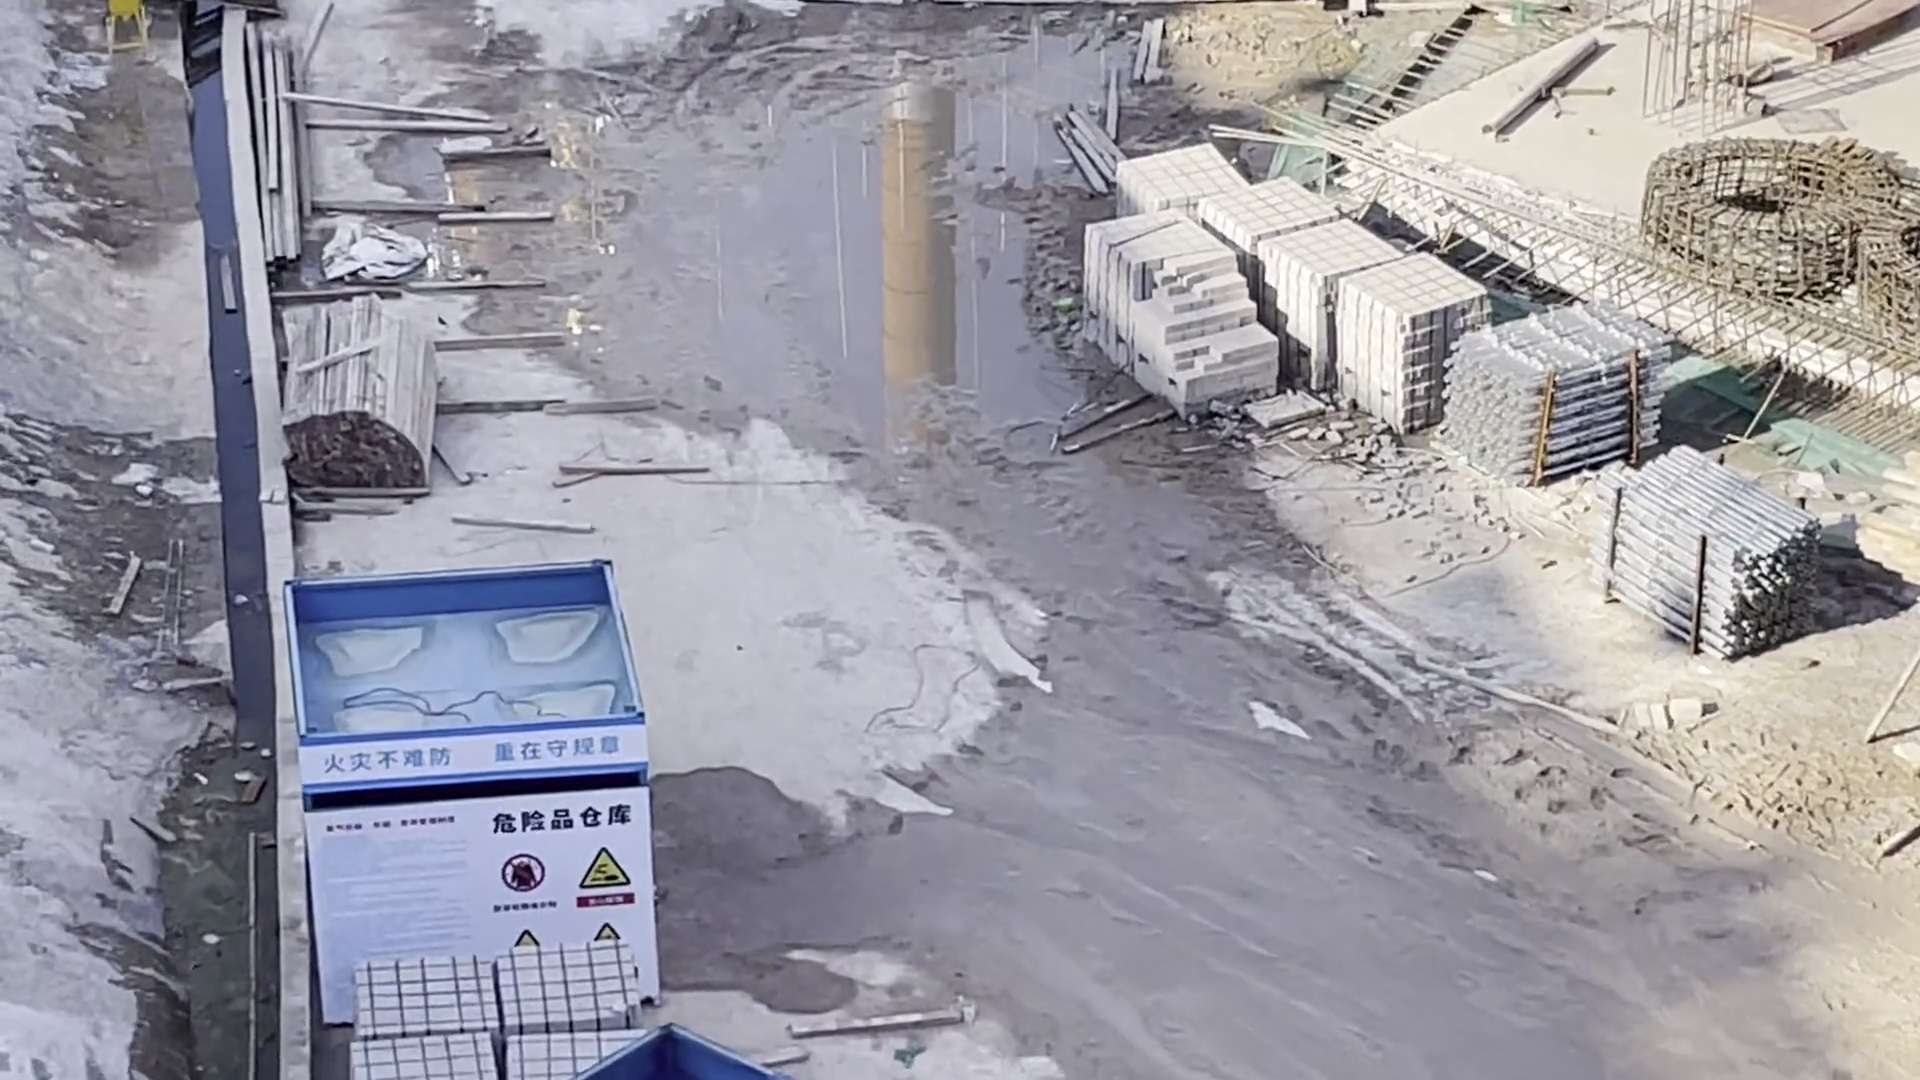board: (1745, 1, 1909, 61)
brick: (1089, 169, 1456, 411)
ebox: (108, 1, 142, 26)
scaffold: (1596, 446, 1813, 650), (1455, 313, 1663, 479)
slogan: (305, 729, 633, 773), (488, 847, 642, 938)
wood: (281, 307, 433, 487)
